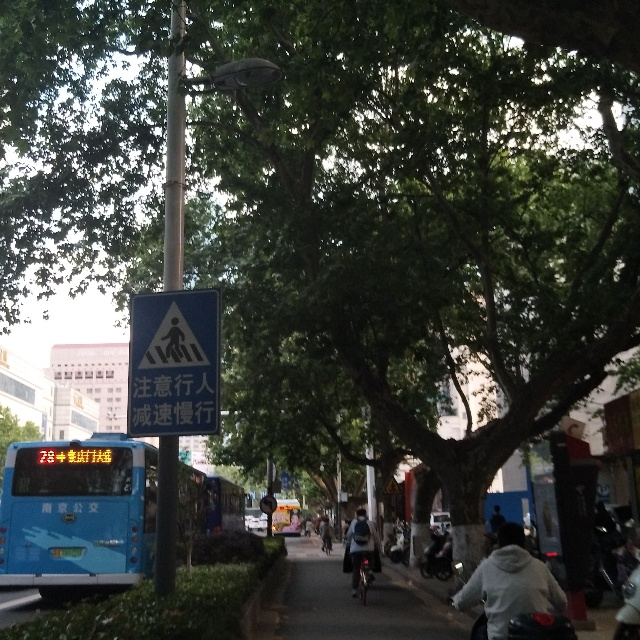crosswalk: (124, 298, 219, 375)
